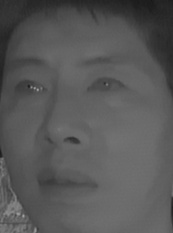eye: (85, 73, 125, 98), (12, 76, 49, 101)
mouth: (28, 160, 101, 204)
